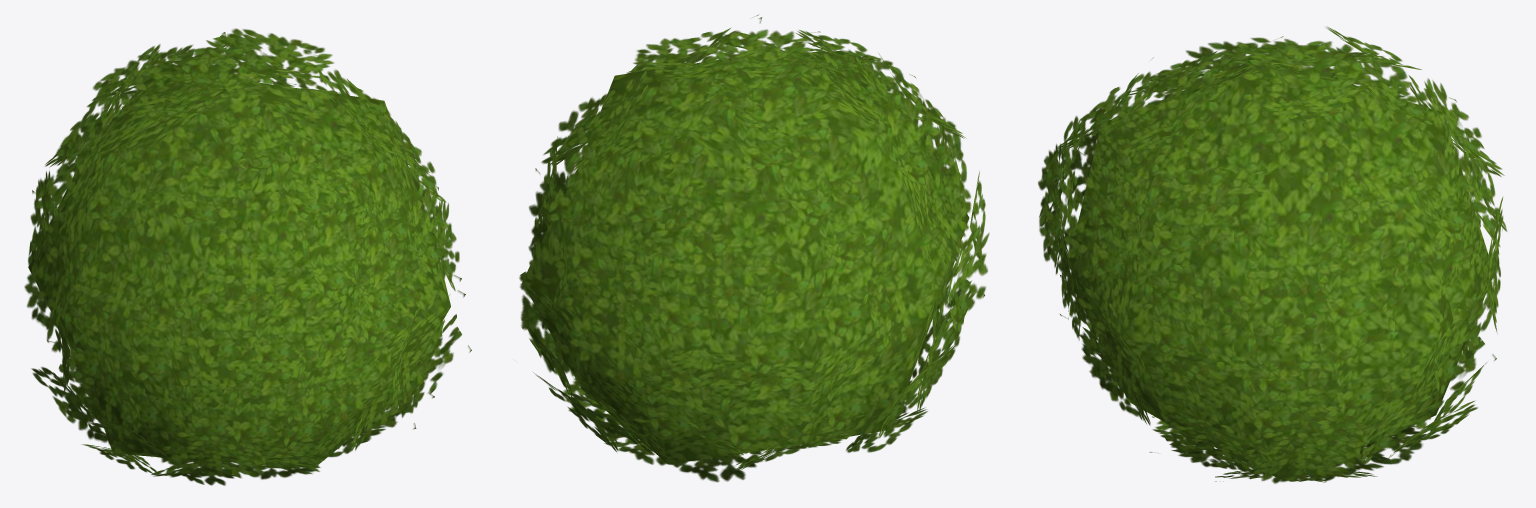
File: boxwood.glb
3 renders of one model, left to right at view 1: azimuth 30°, elevation 25°; view 2: azimuth 150°, elevation 25°; view 3: azimuth 270°, elevation 25°, orthographic.
Visible parts, largest first — view 1: Bush_low_standardSurface2_0; view 2: Bush_low_standardSurface2_0; view 3: Bush_low_standardSurface2_0.
Boxes of the visible parts, box(x1,y1,x2,y2) form: Bush_low_standardSurface2_0: box(24, 28, 471, 485); Bush_low_standardSurface2_0: box(519, 14, 989, 482); Bush_low_standardSurface2_0: box(1038, 26, 1507, 483).
Bounding box in the file's own units: 0.0569 × 0.0523 × 0.0606.
1 material, 1 textured.
